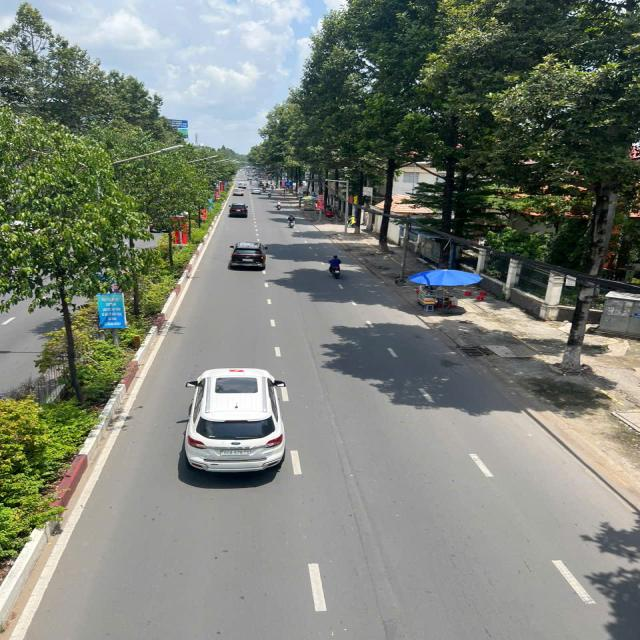car: (183, 364, 288, 476), (230, 238, 268, 272), (226, 201, 252, 219), (231, 186, 246, 197), (251, 186, 262, 196)
motobyte: (327, 253, 344, 280), (286, 212, 298, 229), (275, 198, 284, 212), (267, 189, 273, 199)
